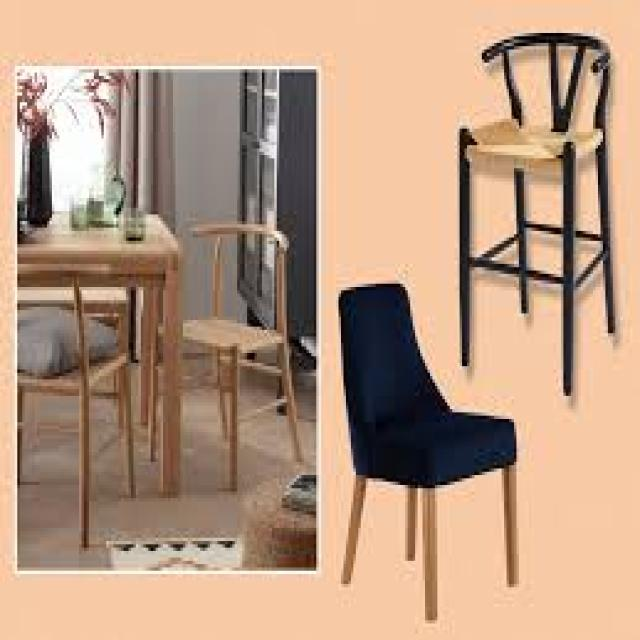chair: (296, 260, 543, 623), (415, 20, 640, 409), (142, 186, 299, 516), (18, 256, 144, 563)
